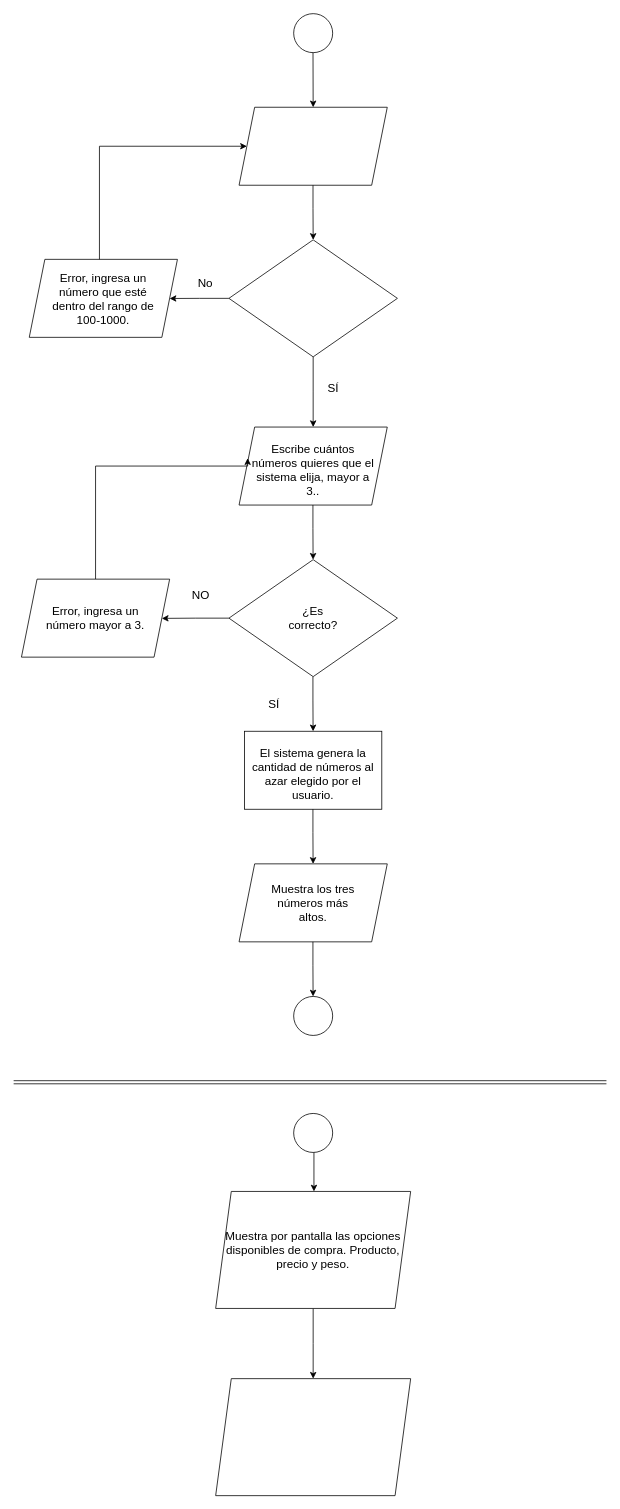
Some shapes in this 620 by 1509 pixel diagram are drawn without their labels. The shapes that lost their labels are listed below. From the top down, each one's centre as x and y in pixels, then its label:
the point at 312,145: Ingresar un número entre 100 y 1000
the point at 312,298: ¿Los números están dentro del rango?
the point at 313,1437: El usuario selecciona lo que quiere comprar.
